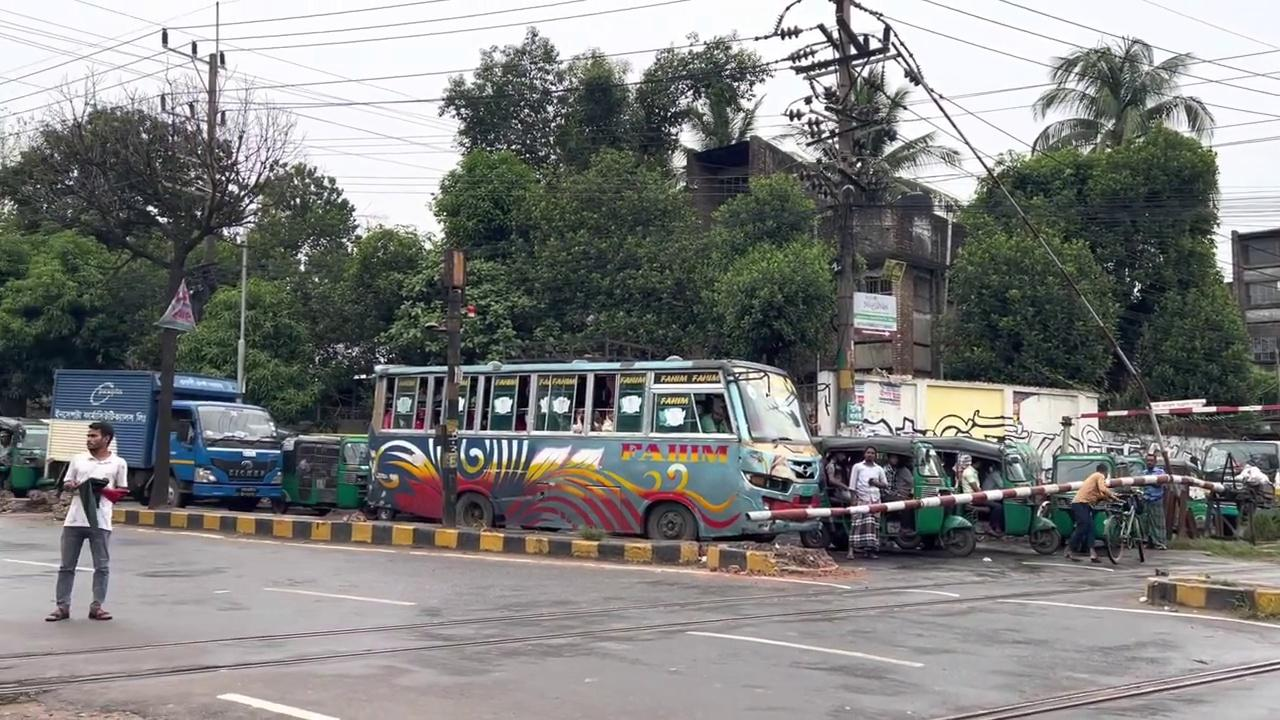Fence: (43, 420, 129, 621), (1063, 462, 1118, 562), (846, 445, 890, 559), (1139, 451, 1169, 550)
Garbage: (439, 247, 465, 527)
Rickshaw: (360, 355, 829, 543), (41, 367, 285, 509), (811, 431, 1062, 556), (276, 431, 371, 515)
